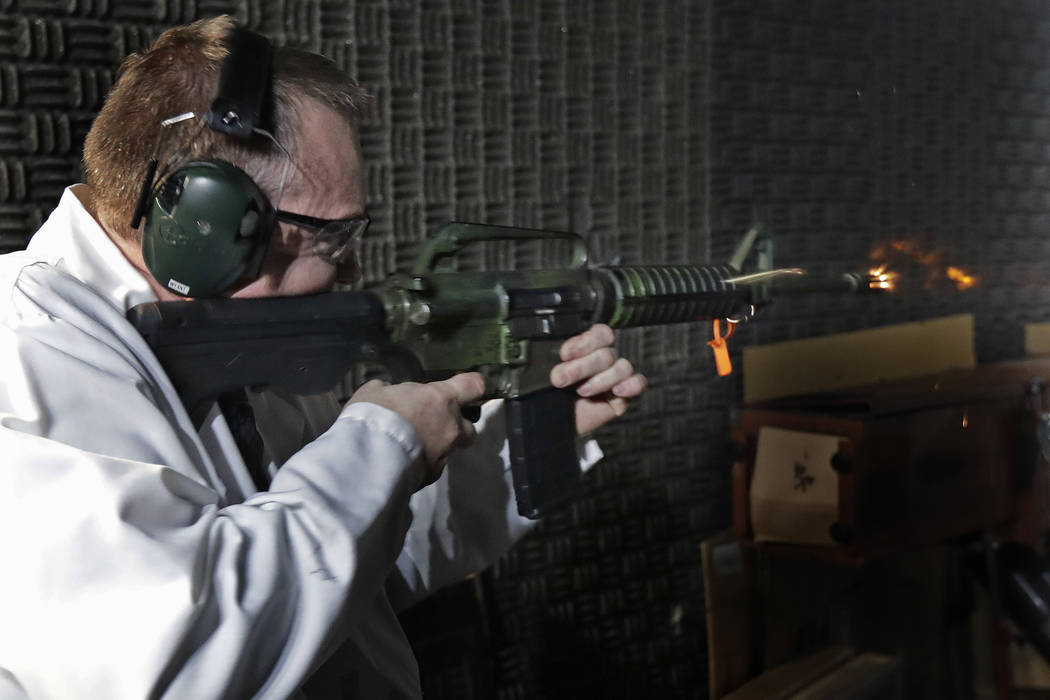Rifle: (116, 216, 870, 522)
